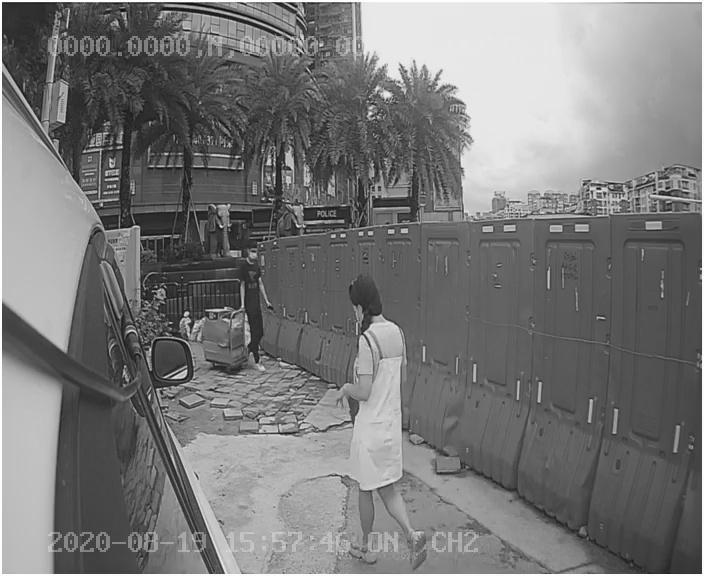person: (310, 270, 440, 567)
